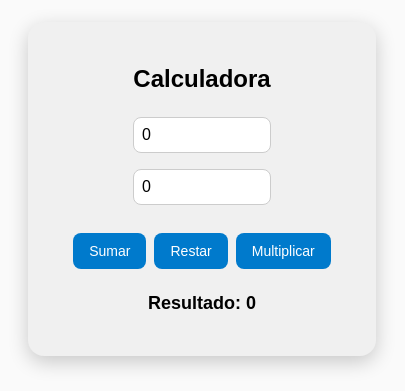
Scenario: Calculator E2E - Initial state and operations › should calculate multiplication correctly
Replace the text in the 1st number field with "7" at [202, 136], box [133,118,271,154]
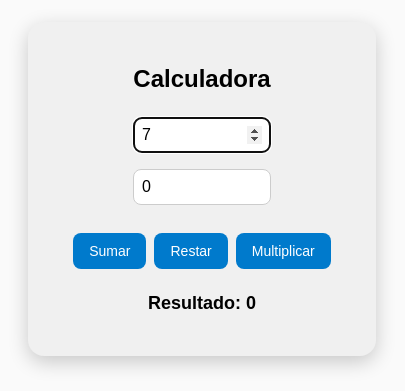
Replace the text in the 2nd number field with "6" at [202, 188], box [133,170,271,206]
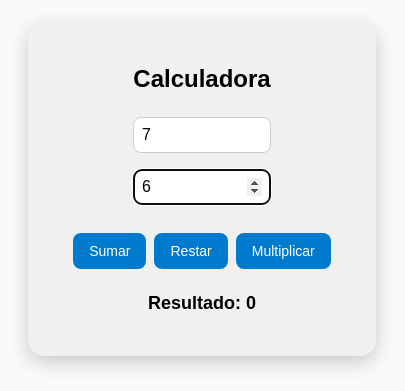
Click the button "Multiplicar" at [284, 252], box [236,234,331,270]
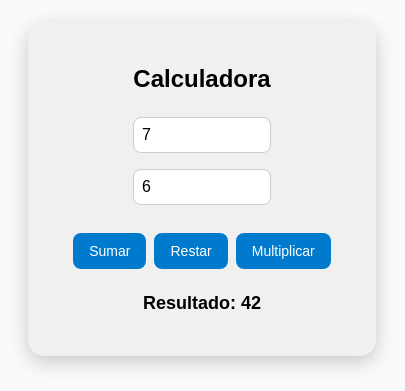
Expected: the text "Resultado: 42" is shown, [143,294,261,314]
